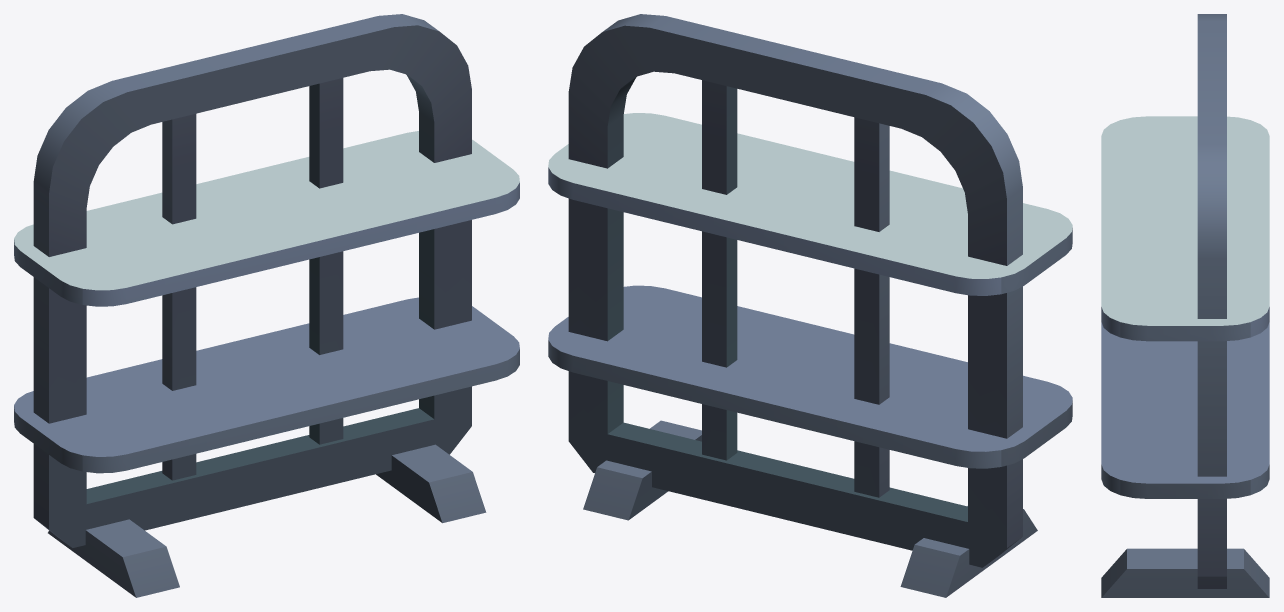
Rendered from rack_c.fbx.
The picture shows the model from 3 angles, left to right: view 1: azimuth 30°, elevation 25°; view 2: azimuth 150°, elevation 25°; view 3: azimuth 270°, elevation 25°; orthographic projection. The views are drawn at different scales.
Visible parts, largest first — view 1: rack_wall; view 2: rack_wall; view 3: rack_wall.
Boxes of the visible parts, bbox=[...] form: rack_wall: bbox=[14, 14, 519, 597]; rack_wall: bbox=[548, 14, 1072, 597]; rack_wall: bbox=[1101, 14, 1269, 597].
Size of the model in its own units: 186 by 180 by 63.
